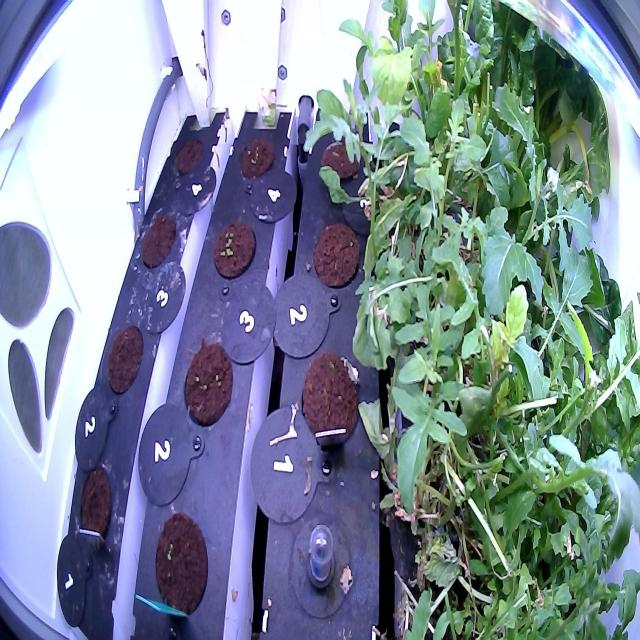germination: (210, 215, 258, 282), (236, 128, 277, 187)
pod: (296, 345, 362, 452), (151, 506, 209, 624), (182, 337, 234, 432), (311, 216, 363, 292), (74, 460, 115, 550), (104, 320, 145, 404), (316, 120, 362, 188), (139, 205, 177, 275), (172, 129, 206, 181)
